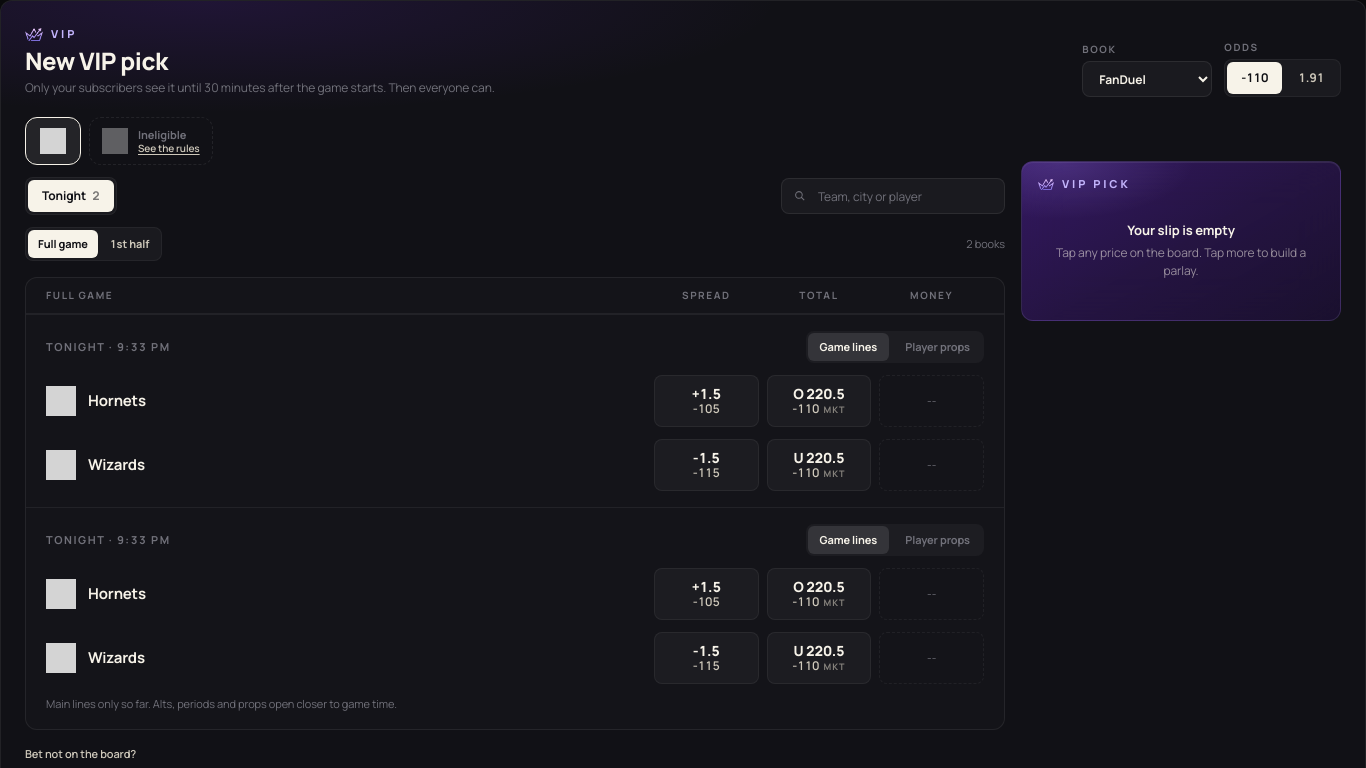
Test case: PickBuilder › a thin game never shows full-game prices under a period tab
The width and height of the screenshot is (1366, 768).
Click the button "1st half" at (130, 244), box [100, 230, 159, 258]
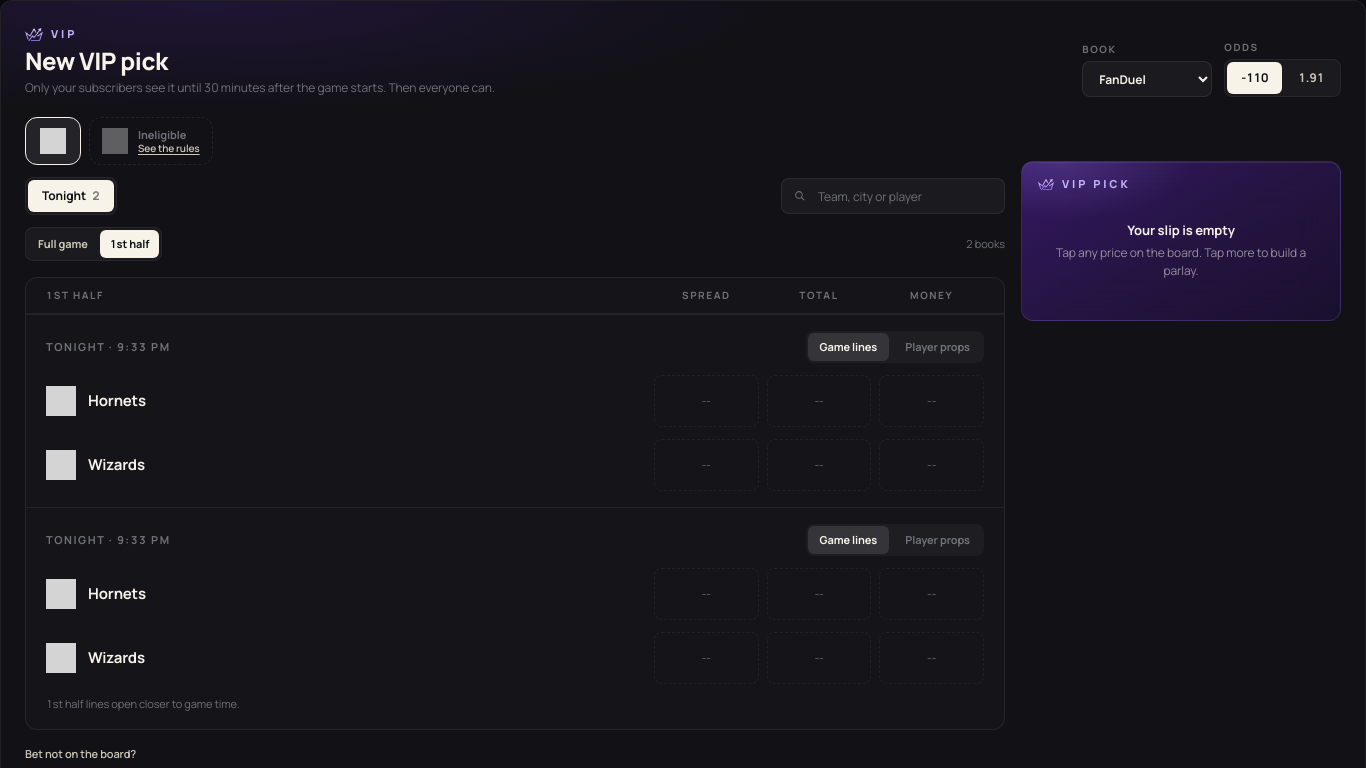
Now no buttons "+1.5" are shown
Now the text "1st half lines open closer to game time." is shown, box [46, 696, 239, 711]
